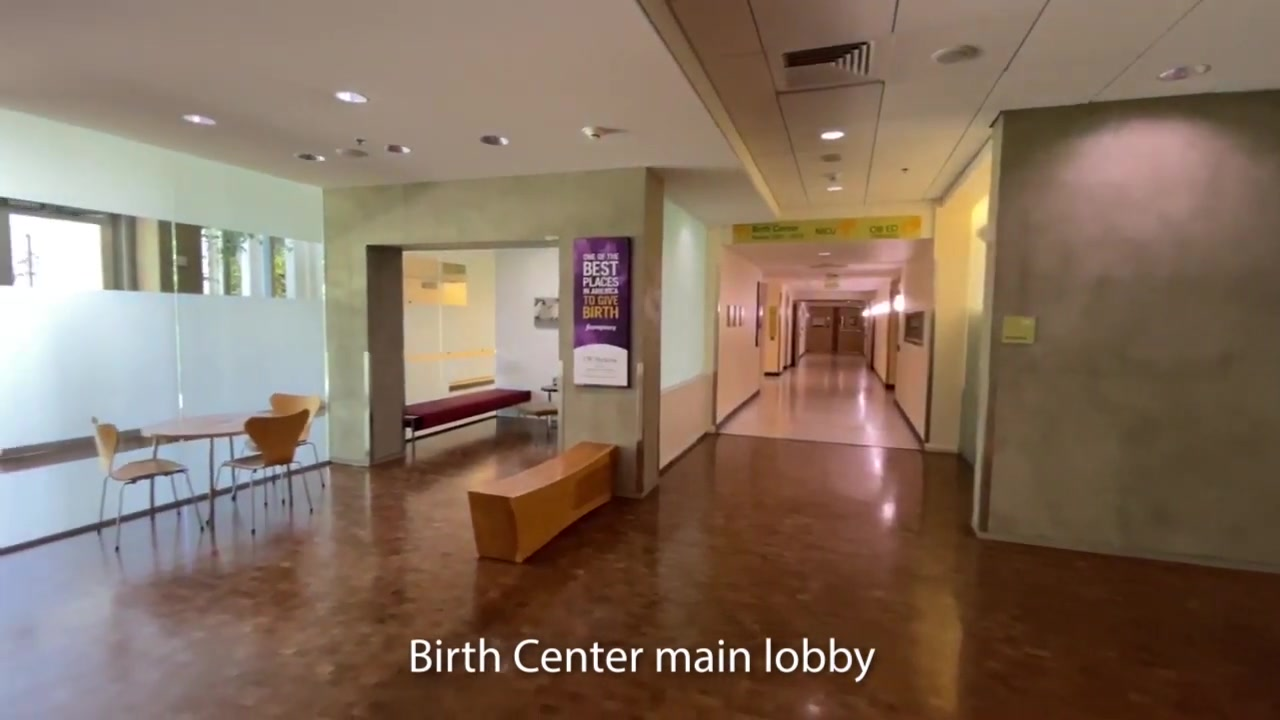chair: (470, 444, 610, 561), (90, 415, 206, 551), (205, 407, 314, 535), (229, 392, 324, 507), (519, 385, 562, 438)
sofa: (403, 389, 530, 432)
table: (141, 415, 270, 555)
